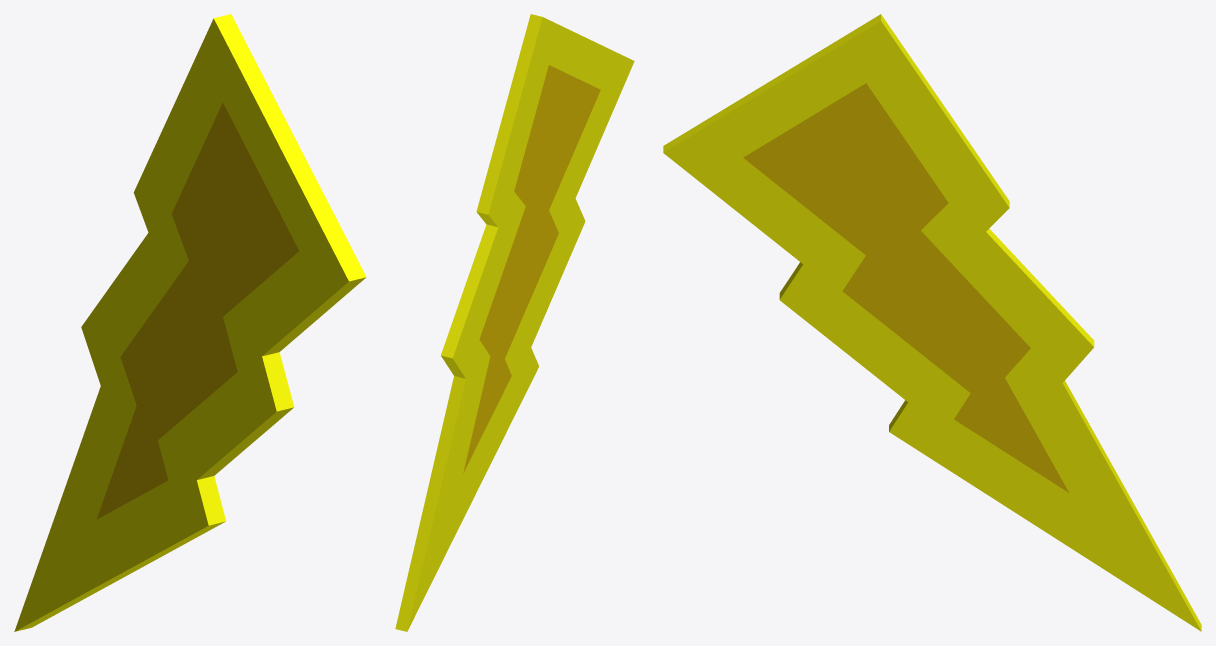
File: lightning.glb
The picture shows the model from 3 angles, left to right: view 1: azimuth 30°, elevation 25°; view 2: azimuth 150°, elevation 25°; view 3: azimuth 270°, elevation 25°; orthographic projection. The views are drawn at different scales.
Visible parts, largest first — view 1: Cube.001; view 2: Cube.001; view 3: Cube.001.
Part boxes in pixels (<box>): Cube.001: <box>14,14,366,631</box>; Cube.001: <box>395,14,634,631</box>; Cube.001: <box>663,14,1201,631</box>.
Size of the model in its own units: 0.0261 by 1.07 by 0.8585.
